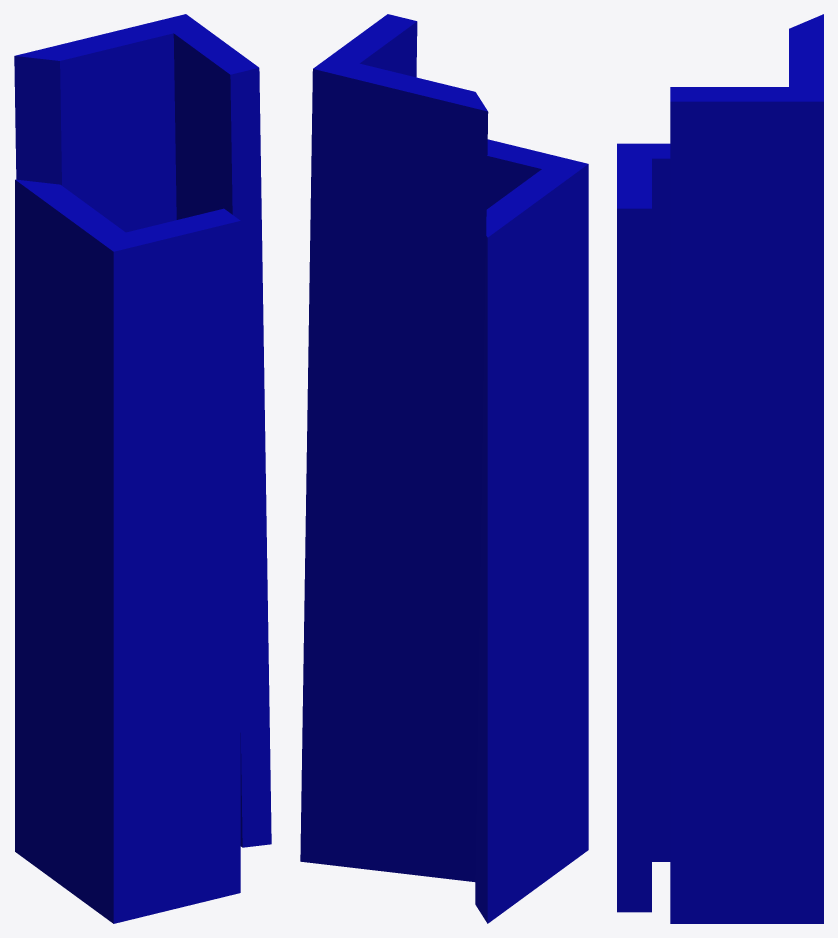
The model's file is datastacks.glb.
The picture shows the model from 3 angles, left to right: view 1: azimuth 30°, elevation 25°; view 2: azimuth 150°, elevation 25°; view 3: azimuth 270°, elevation 25°; orthographic projection. The views are drawn at different scales.
Bounding box in the file's own units: 32.75 × 135 × 30.48.
